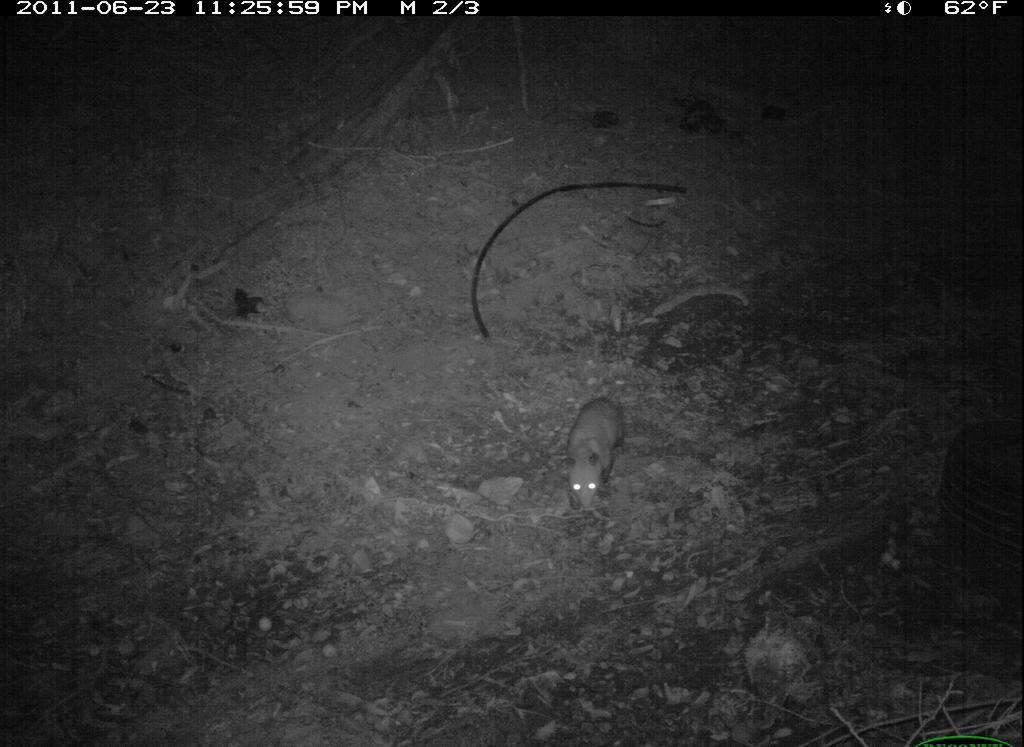opossum: (559, 378, 650, 516)
